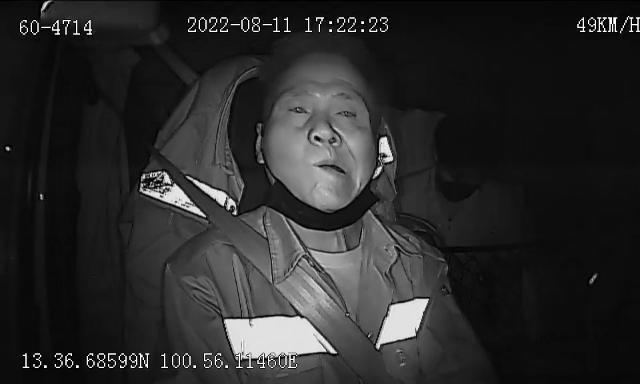SafeDriving: (329, 100, 363, 130), (281, 96, 315, 123)
Seatbelt: (151, 146, 387, 384)
